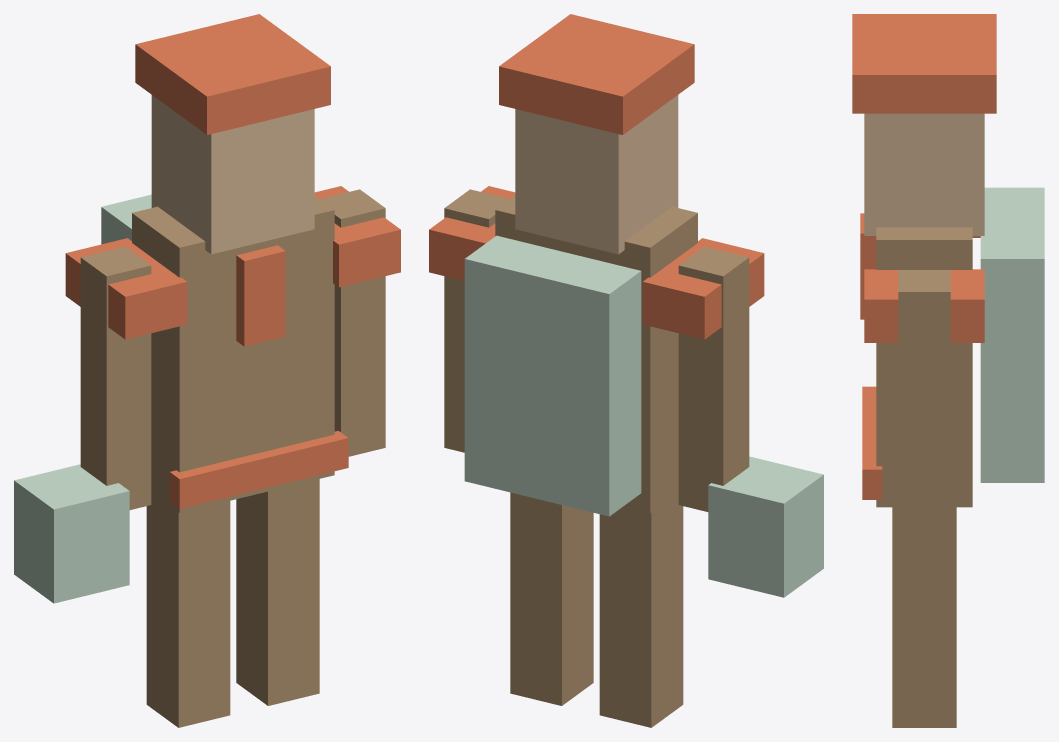
File: 20_astra_mossguard_runner_under_wind.glb
The picture shows the model from 3 angles, left to right: view 1: azimuth 30°, elevation 25°; view 2: azimuth 150°, elevation 25°; view 3: azimuth 270°, elevation 25°; orthographic projection.
Visible parts, largest first — view 1: Astra Mossguard, Runner under Wind; view 2: Astra Mossguard, Runner under Wind; view 3: Astra Mossguard, Runner under Wind.
Boxes of the visible parts, x1,y1,x2,y2 form: Astra Mossguard, Runner under Wind: (14,14,400,727); Astra Mossguard, Runner under Wind: (429,14,823,727); Astra Mossguard, Runner under Wind: (852,14,1044,727).
Size of the model in its own units: 0.9371 by 1.68 by 0.4521.
